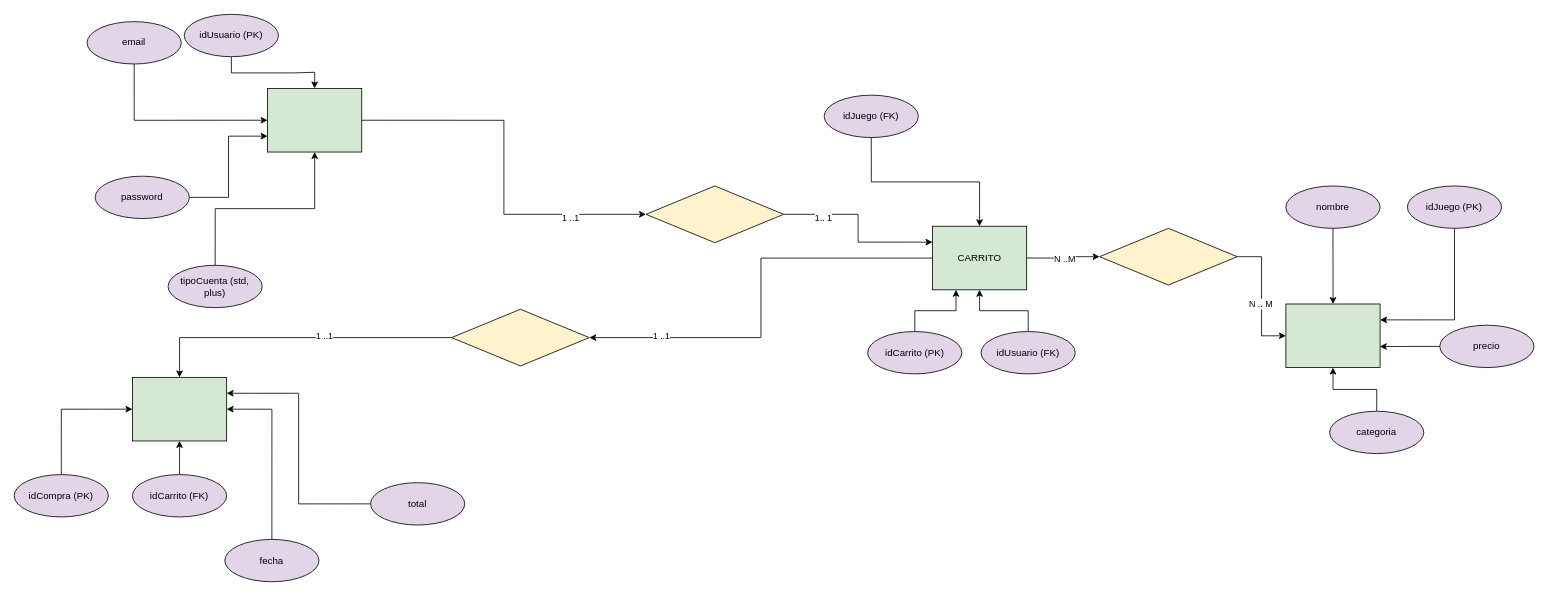
Some shapes in this 1549 by 596 pixel diagram are drawn without their labels. The shapes that lost their labels are listed below. From the top down, each one's centre as x and y in pixels, then its label:
the point at 314,120: USUARIO
the point at 714,214: TIENE
the point at 1168,256: CONTIENE
the point at 520,337: GENERA
the point at 1332,335: JUEGO
the point at 179,409: COMPRA
